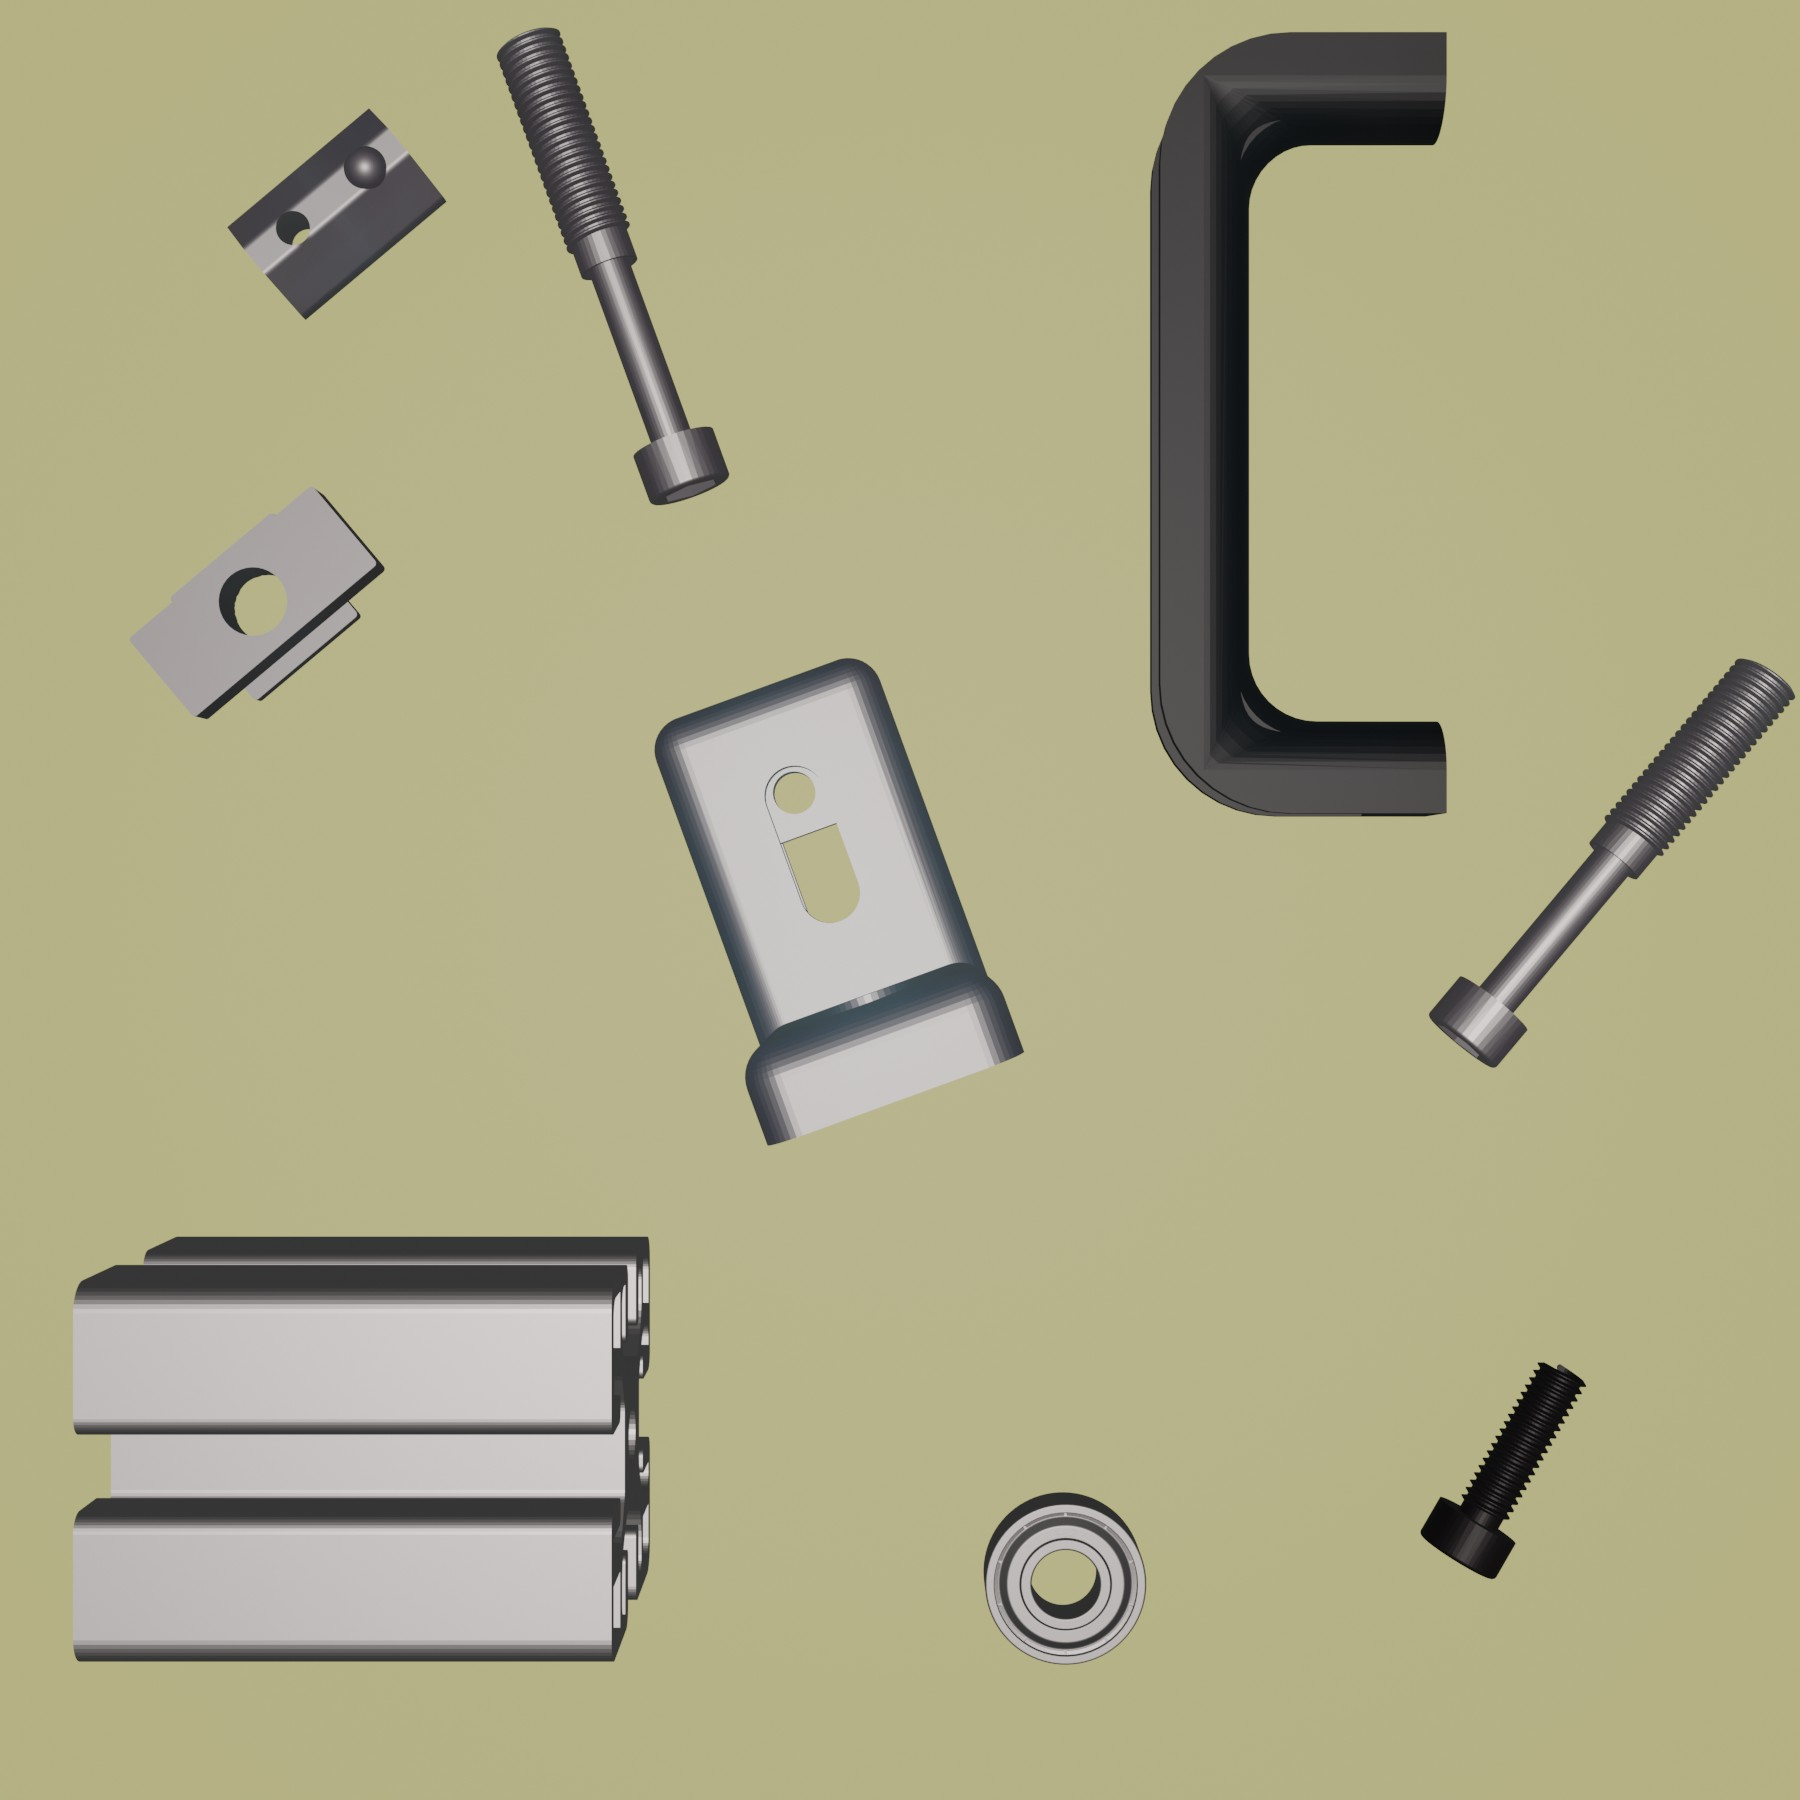Aluminium Extension: (63, 1226, 654, 1665)
Ball Bearing: (981, 1488, 1147, 1668)
Multiwinkel: (651, 654, 1025, 1149)
Pull Handle: (1142, 23, 1451, 819)
Shoulder Socket Head Cap Screw: (1427, 654, 1797, 1071), (491, 23, 730, 508)
Socket Head Cap Screw: (1419, 1353, 1589, 1581)
T Nut Square: (129, 481, 387, 724)
T Spring Nut: (224, 102, 450, 321)
